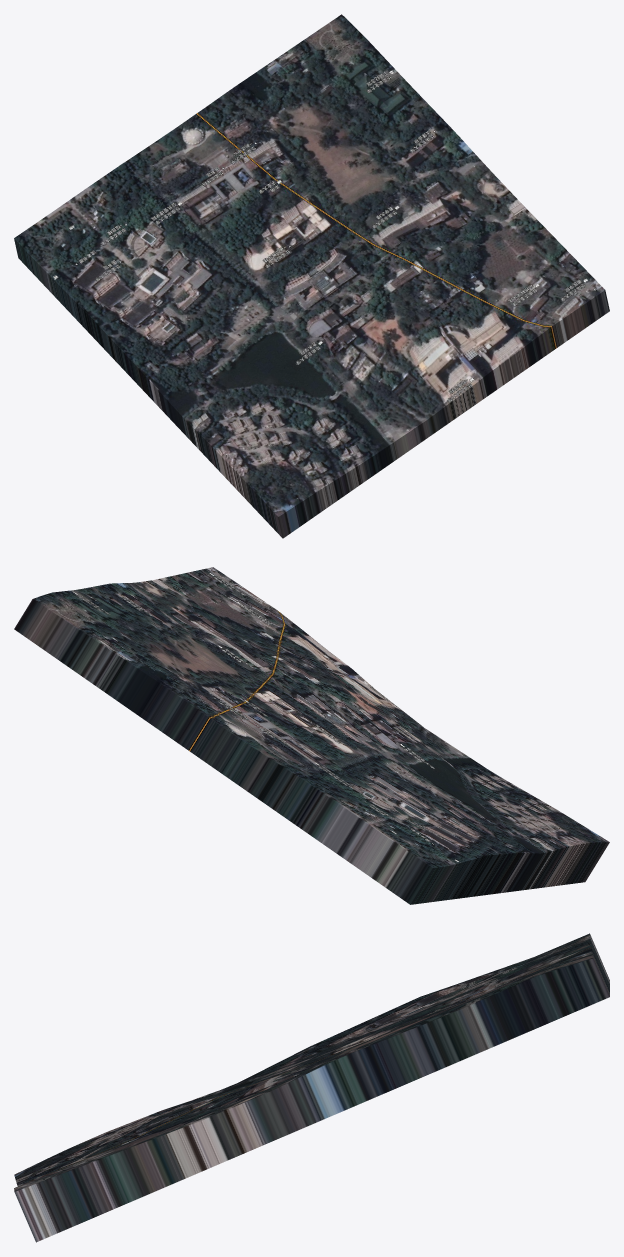
The picture shows the model from 3 angles, top to bottom: view 1: azimuth 30°, elevation 25°; view 2: azimuth 150°, elevation 25°; view 3: azimuth 270°, elevation 25°; orthographic projection. The views are drawn at different scales.
Visible parts, largest first — view 1: 0_3_27; view 2: 0_3_27; view 3: 0_3_27.
Part boxes in pixels (left/top/right/bottom): 0_3_27: left=14, top=14, right=609, bottom=538; 0_3_27: left=14, top=567, right=609, bottom=904; 0_3_27: left=14, top=933, right=609, bottom=1242.
Size of the model in its own units: 610 by 462 by 563.
Materials: 1 (1 with a texture image).
